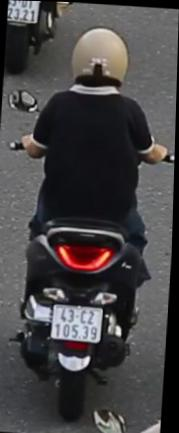LP: (52, 301, 107, 346), (5, 0, 41, 25)
helmet: (66, 21, 132, 99)
